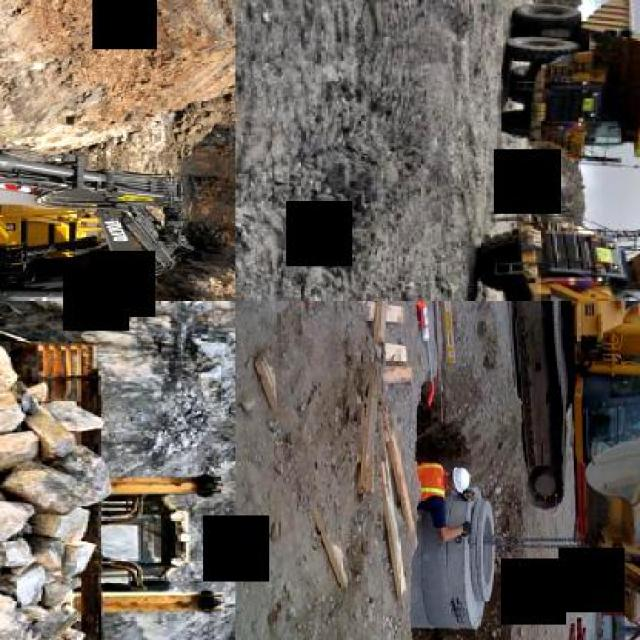buldozerpayloadergrader: (0, 300, 234, 638)
dump_truck: (496, 0, 638, 172), (458, 206, 638, 299)
excavator: (0, 56, 195, 298), (511, 300, 638, 626)
